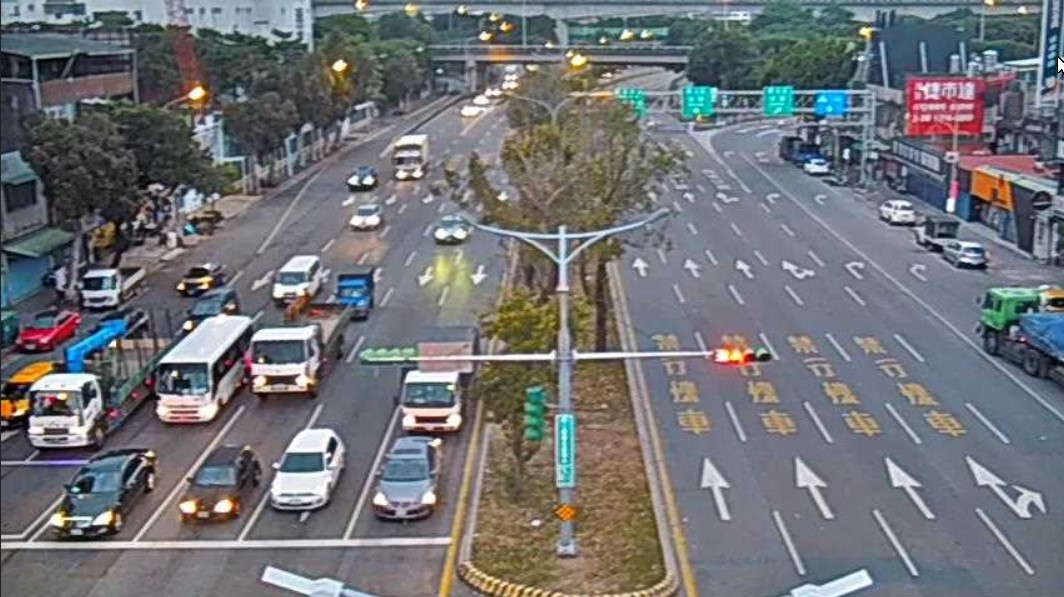Bus: (30, 336, 166, 448), (158, 315, 254, 421), (979, 278, 1064, 383), (395, 332, 477, 437), (252, 300, 340, 395), (393, 129, 428, 184)
Business Passenger Car: (4, 363, 57, 431)
Private Passenger Car: (70, 448, 152, 546), (178, 448, 260, 538), (370, 430, 440, 534), (274, 432, 342, 508), (266, 242, 324, 308), (12, 300, 76, 356), (174, 264, 226, 302), (432, 206, 474, 244), (344, 156, 386, 194), (946, 240, 988, 276), (346, 200, 390, 234), (878, 194, 920, 228), (804, 156, 830, 177)
